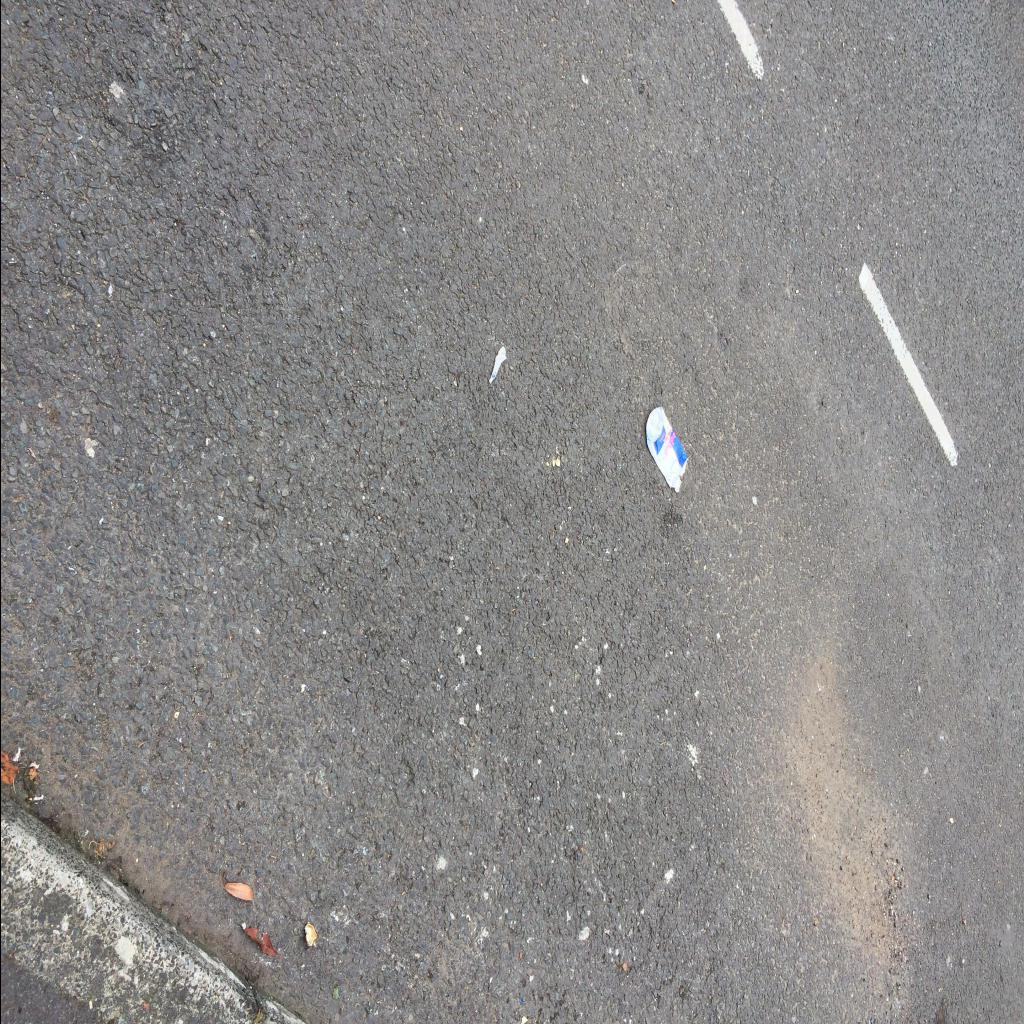Drink can: (645, 408, 687, 492)
Unlabeled litter: (488, 346, 506, 384)
